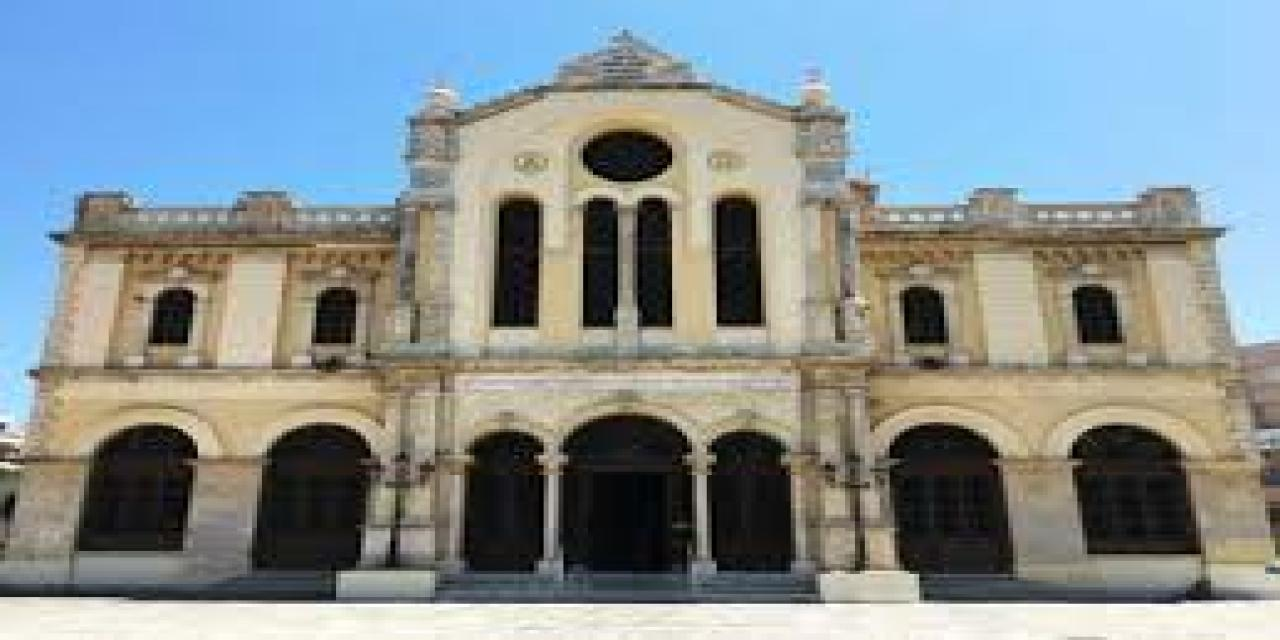Agios Minas: (1, 28, 1272, 603)
